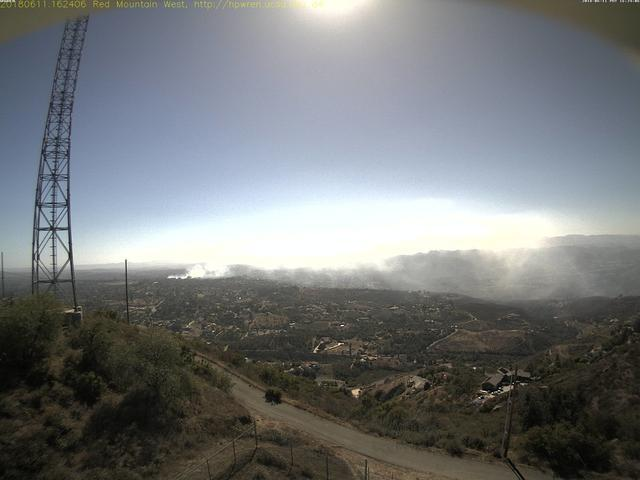smoke: (166, 235, 606, 306)
